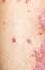plaque psoriasis: (27, 37, 45, 70), (36, 10, 45, 37), (9, 35, 19, 46), (24, 35, 31, 45), (0, 0, 9, 6), (23, 0, 32, 6)
